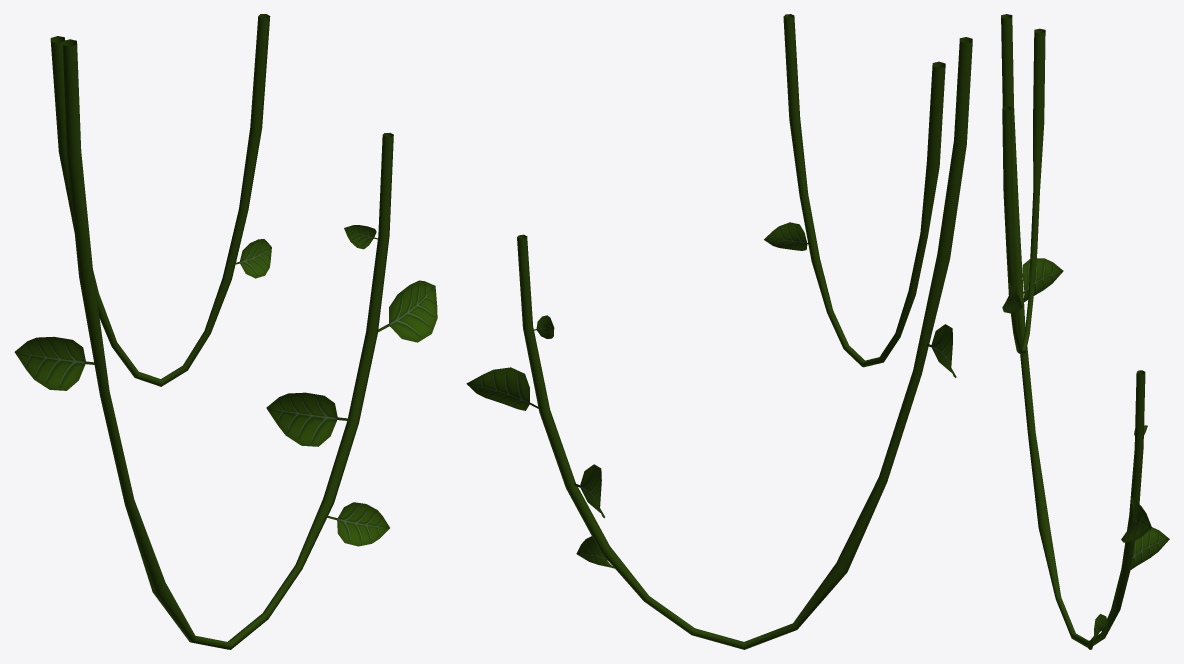
Rendered from Vines.fbx.
3 views of the same model, side by side, from view 1: azimuth 30°, elevation 25°; view 2: azimuth 150°, elevation 25°; view 3: azimuth 270°, elevation 25° (orthographic). The views are drawn at different scales.
Parts seen in each view (by area): view 1: Vines; view 2: Vines; view 3: Vines.
Part boxes in pixels (box(x1,y1,x2,y2)): Vines: box(14, 14, 437, 649); Vines: box(466, 14, 972, 649); Vines: box(1001, 14, 1169, 649).
Bounding box in the file's own units: 10058 × 13856 × 3893.
